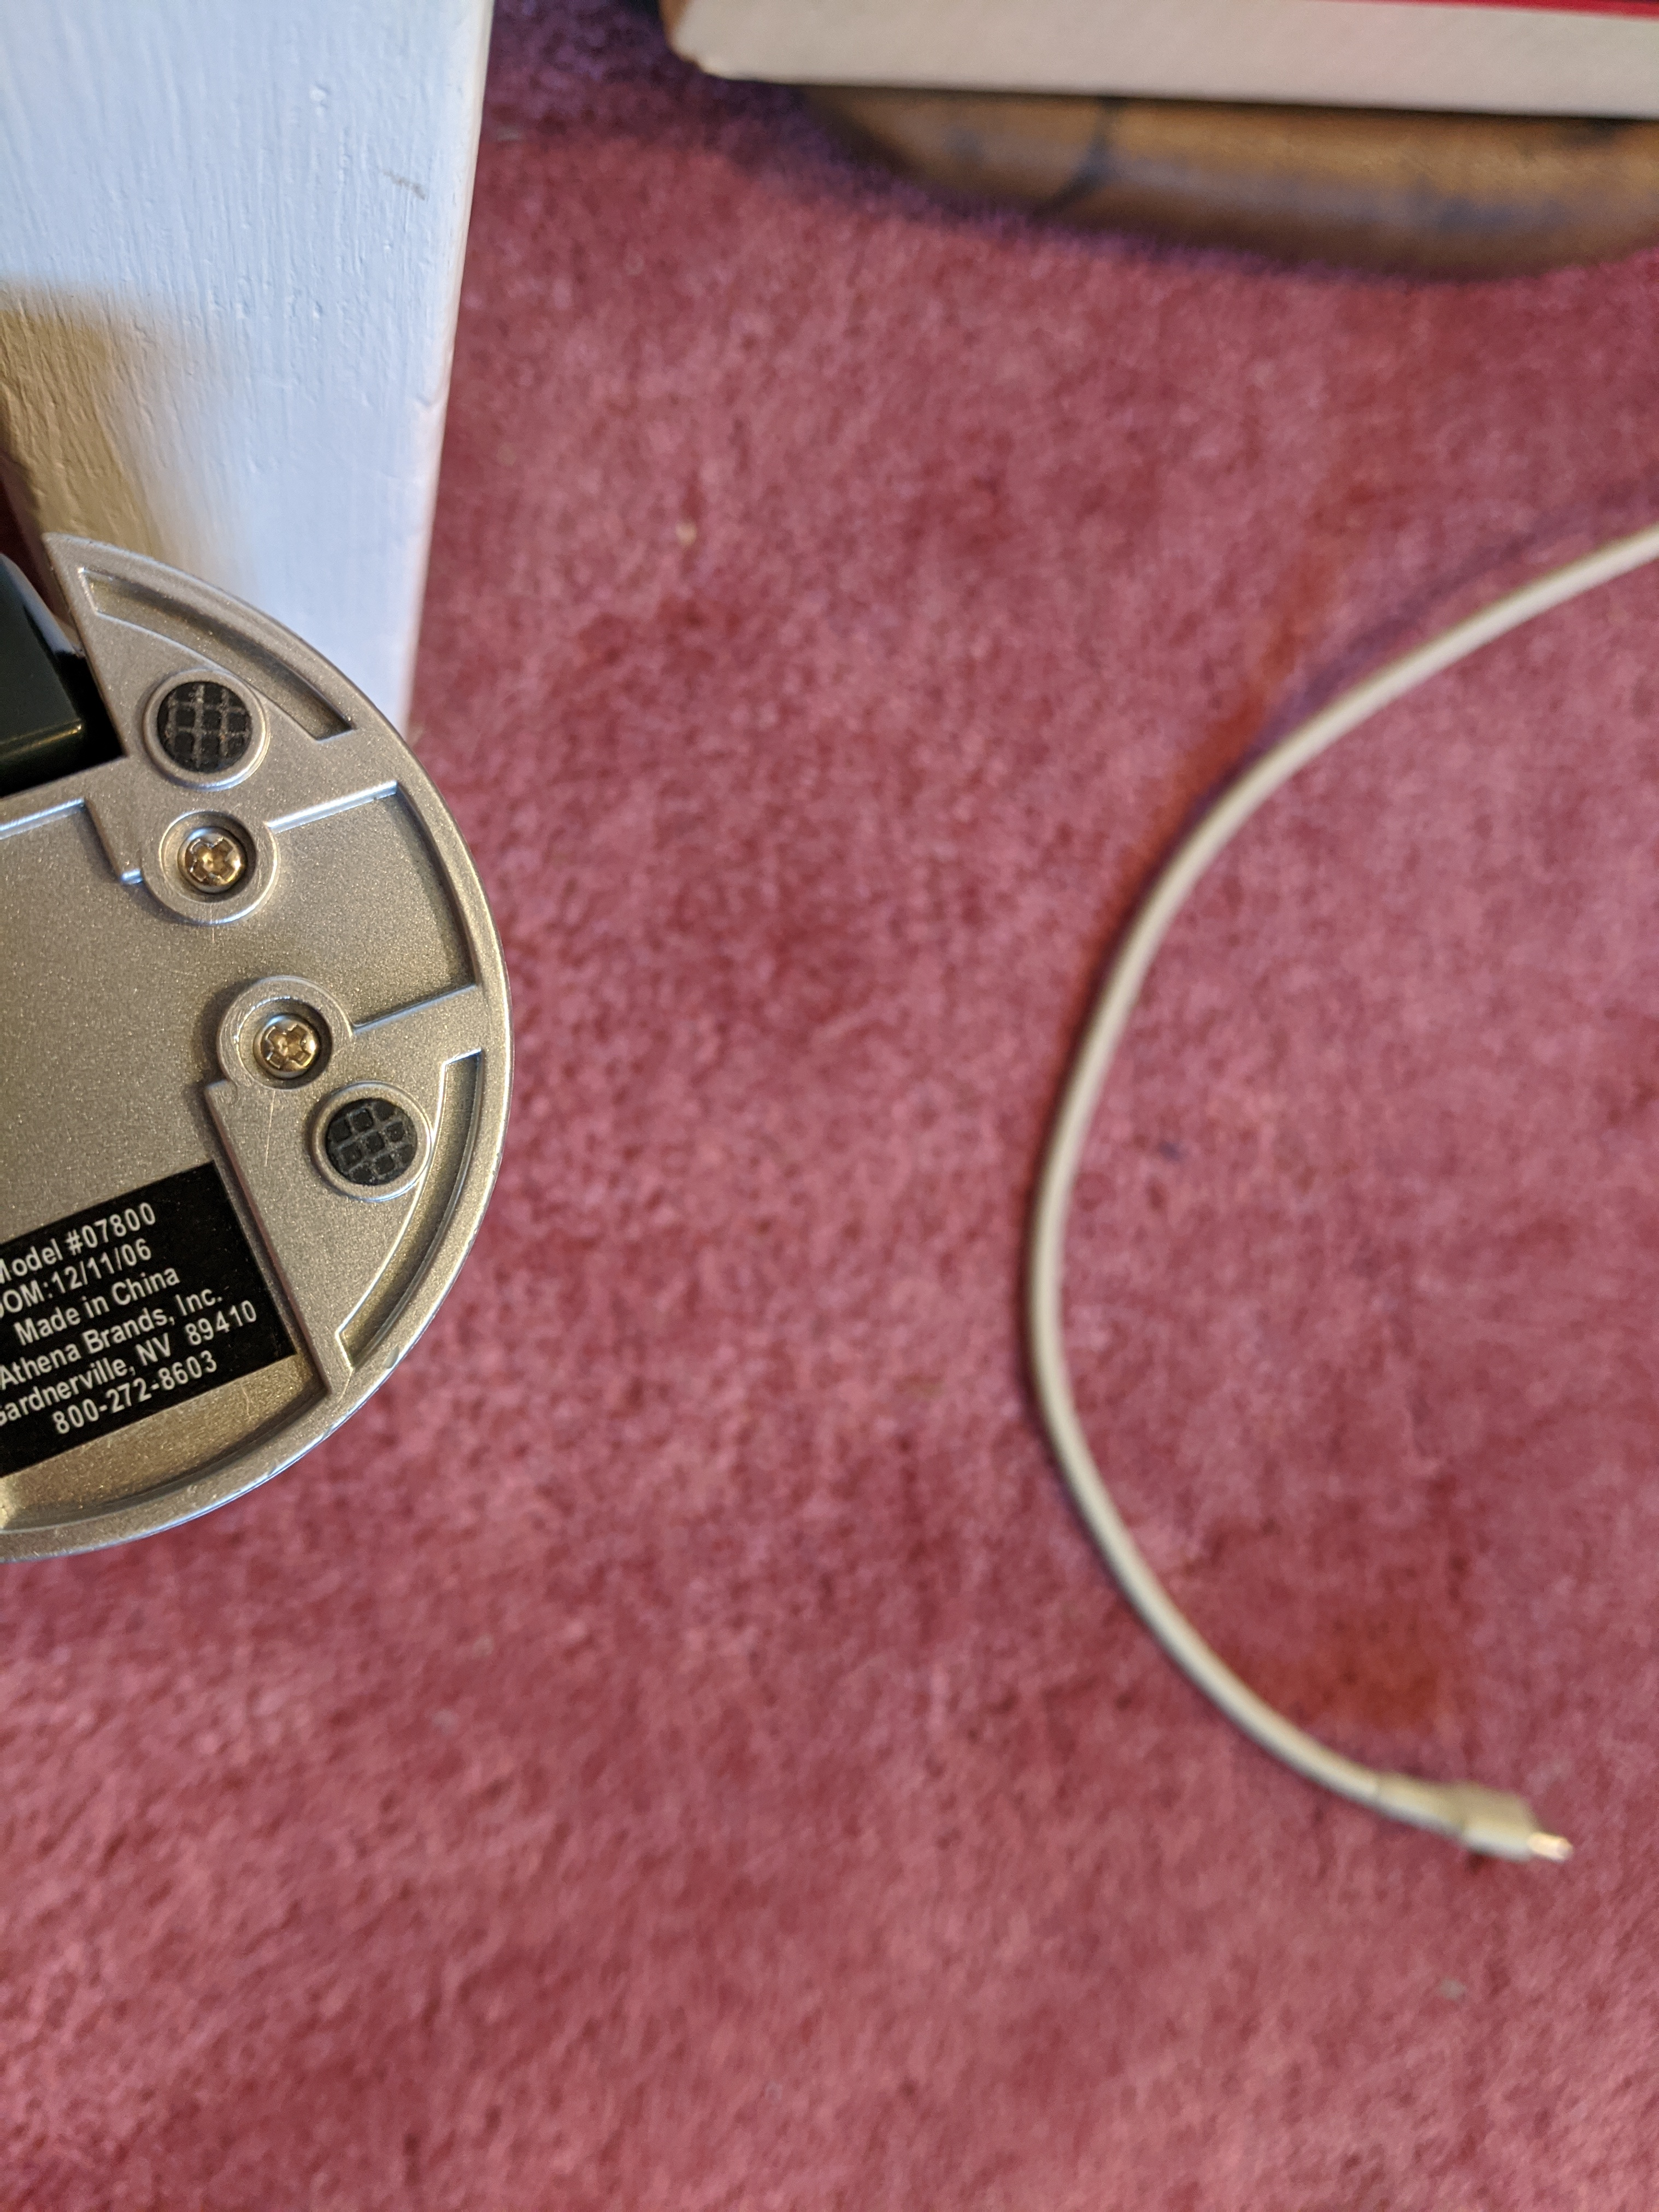cross_recessed_screw: (167, 817, 254, 897), (244, 1000, 321, 1075)
